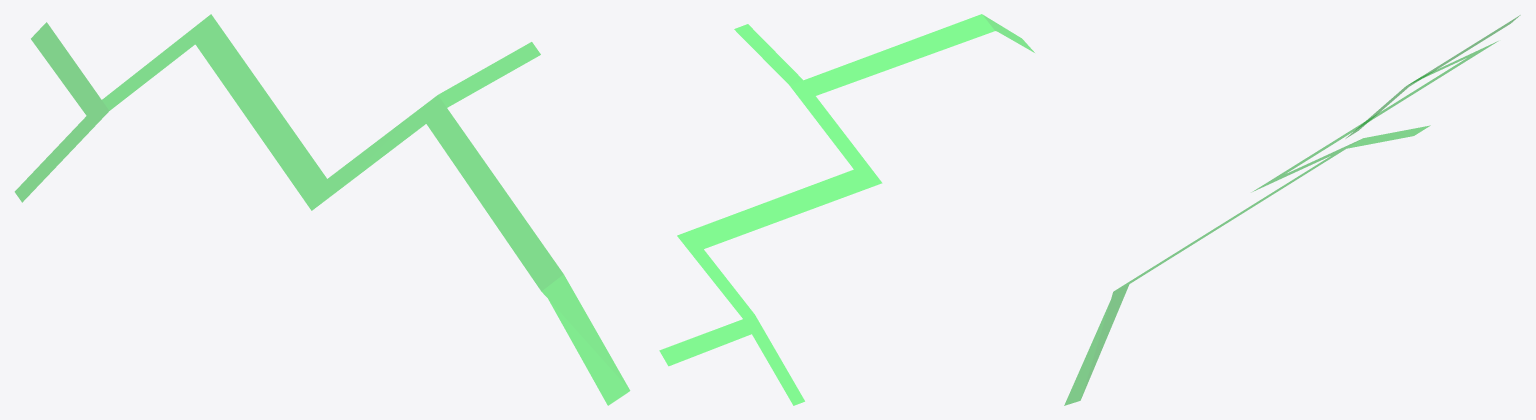
Rendered from ZXWm_052_artillery_t1_buff06.FBX.
The picture shows the model from 3 angles, left to right: view 1: azimuth 30°, elevation 25°; view 2: azimuth 150°, elevation 25°; view 3: azimuth 330°, elevation 25°; orthographic projection. The views are drawn at different scales.
Parts seen in each view (by area): view 1: BUFF_06; view 2: BUFF_06; view 3: BUFF_06.
Part boxes in pixels (left/top/right/bottom): BUFF_06: left=15, top=14, right=629, bottom=405; BUFF_06: left=659, top=14, right=1034, bottom=405; BUFF_06: left=1064, top=15, right=1520, bottom=405.
Bounding box in the file's own units: 21.7 × 16.71 × 65.48.
